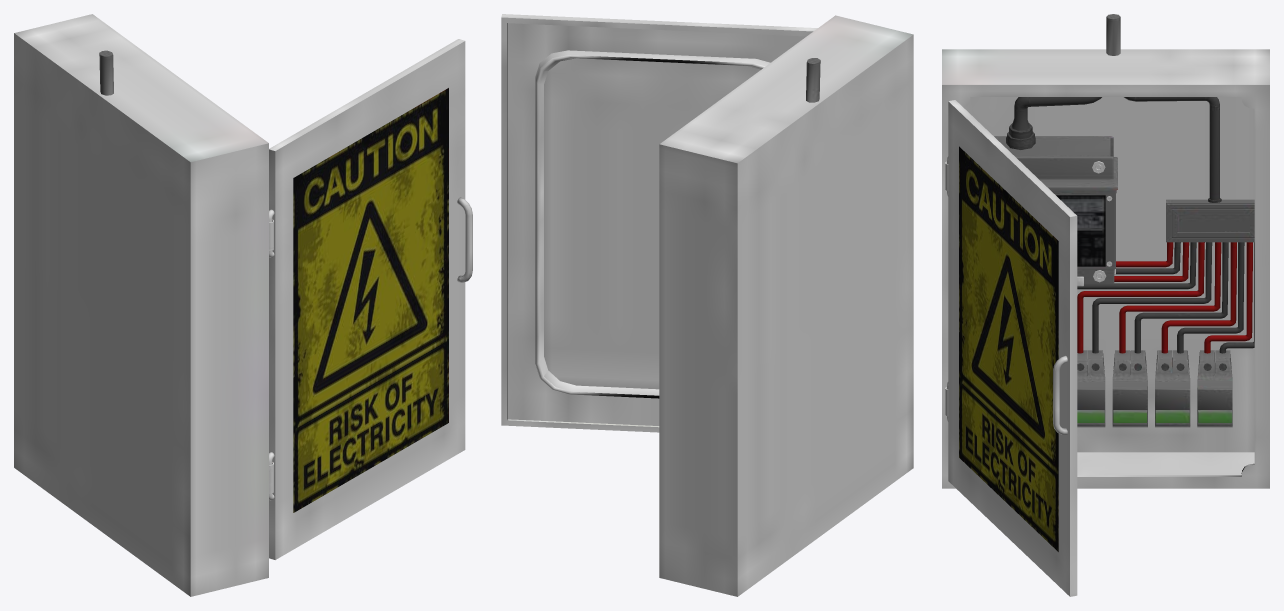
The model's file is breaker.glb.
3 views of the same model, side by side, from view 1: azimuth 30°, elevation 25°; view 2: azimuth 150°, elevation 25°; view 3: azimuth 270°, elevation 25° (orthographic). The views are drawn at different scales.
Visible parts, largest first — view 1: Electrical Box, Electrical Door; view 2: Electrical Box, Electrical Door; view 3: Electrical Box, Electrical Door, Akumulator.
Part boxes in pixels (x1=…): Electrical Box: x1=14, y1=14, x2=273, y2=596; Electrical Door: x1=269, y1=39, x2=472, y2=559; Electrical Box: x1=659, y1=15, x2=913, y2=596; Electrical Door: x1=501, y1=14, x2=817, y2=432; Electrical Box: x1=942, y1=14, x2=1269, y2=488; Electrical Door: x1=947, y1=100, x2=1077, y2=596; Akumulator: x1=994, y1=136, x2=1117, y2=284.
Size of the model in its own units: 0.3874 by 0.5104 by 0.3447.
1 material, 1 textured.
